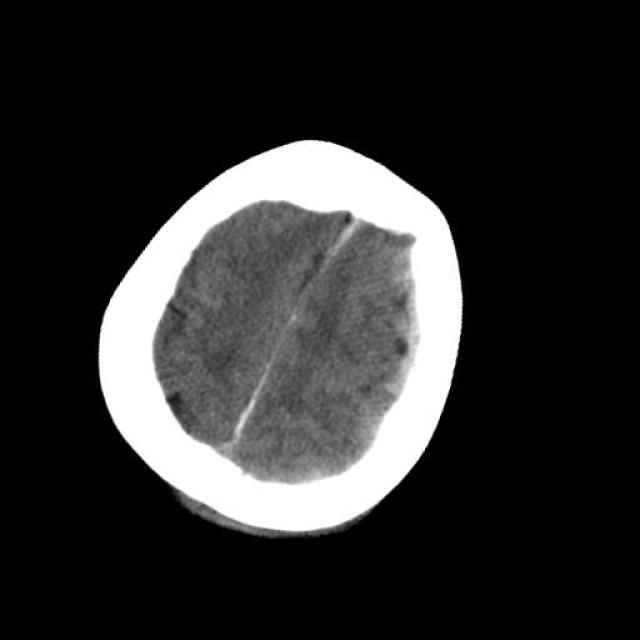Subdural: (349, 240, 506, 438)
